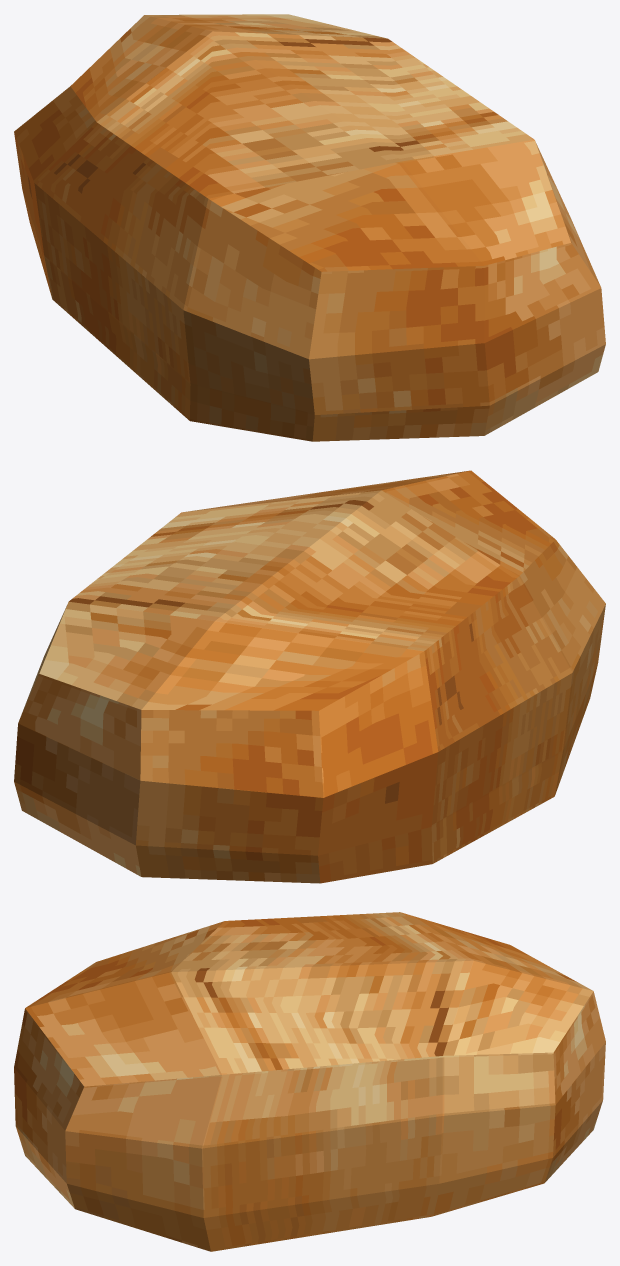
Rendered from bread.glb.
The picture shows the model from 3 angles, top to bottom: view 1: azimuth 30°, elevation 25°; view 2: azimuth 150°, elevation 25°; view 3: azimuth 270°, elevation 25°; orthographic projection. The views are drawn at different scales.
Visible parts, largest first — view 1: bread; view 2: bread; view 3: bread.
Part boxes in pixels (x1,y1,x2,y2): bread: [14, 14, 605, 441]; bread: [14, 470, 605, 883]; bread: [14, 912, 605, 1251].
Size of the model in its own units: 0.2458 by 0.1438 by 0.3604.
1 material, 1 textured.
